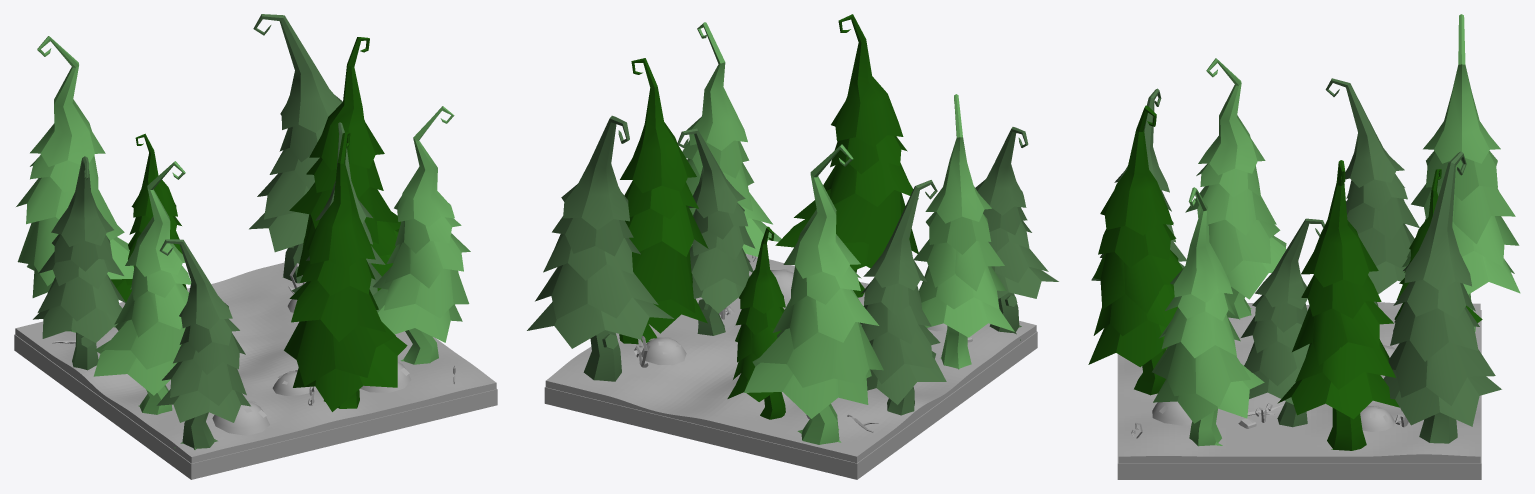
The model's file is Foret_croisee_wendigo.fbx.
3 views of the same model, side by side, from view 1: azimuth 30°, elevation 25°; view 2: azimuth 150°, elevation 25°; view 3: azimuth 270°, elevation 25° (orthographic). The views are drawn at different scales.
Visible parts, largest first — view 1: sol27, sapin23, sapin21, sapin24, sapin25, sapin18, sapin22, sapin16, sol10, sapin17, sapin19, Buisson34 (+2 smaller); view 2: sol27, sapin18, sapin16, sapin23, sapin17, sapin24, sapin25, sol10, sapin20, sapin22, sapin21, sapin19 (+1 smaller); view 3: sol27, sapin16, sapin17, sapin23, sapin21, sapin18, sapin24, sapin25, sapin20, sol10, sapin22, sapin19 (+2 smaller).
Part boxes in pixels (bbox=[...]): sol27: bbox=[15, 262, 496, 463]; sapin23: bbox=[284, 132, 407, 411]; sapin21: bbox=[372, 106, 470, 364]; sapin24: bbox=[93, 161, 191, 414]; sapin25: bbox=[33, 156, 125, 370]; sapin18: bbox=[16, 36, 133, 332]; sapin22: bbox=[156, 239, 250, 449]; sapin16: bbox=[249, 14, 342, 283]; sol10: bbox=[14, 334, 497, 479]; sapin17: bbox=[289, 37, 400, 290]; sapin19: bbox=[111, 133, 186, 301]; Buisson34: bbox=[212, 400, 269, 435]; sol27: bbox=[545, 254, 1036, 463]; sapin18: bbox=[744, 144, 883, 444]; sapin16: bbox=[527, 115, 673, 381]; sapin23: bbox=[775, 14, 918, 297]; sapin17: bbox=[619, 58, 708, 344]; sapin24: bbox=[913, 94, 1014, 369]; sapin25: bbox=[860, 180, 946, 415]; sol10: bbox=[544, 331, 1037, 479]; sapin20: bbox=[677, 128, 755, 335]; sapin22: bbox=[975, 127, 1058, 340]; sapin21: bbox=[682, 22, 781, 256]; sapin19: bbox=[727, 226, 785, 419]; sol27: bbox=[1118, 302, 1480, 463]; sapin16: bbox=[1383, 151, 1501, 443]; sapin17: bbox=[1277, 160, 1399, 450]; sapin23: bbox=[1088, 105, 1182, 395]; sapin21: bbox=[1152, 187, 1264, 446]; sapin18: bbox=[1402, 14, 1520, 331]; sapin24: bbox=[1185, 58, 1286, 319]; sapin25: bbox=[1325, 78, 1419, 306]; sapin20: bbox=[1241, 218, 1324, 427]; sol10: bbox=[1117, 310, 1481, 479]; sapin22: bbox=[1091, 88, 1186, 280]; sapin19: bbox=[1394, 169, 1482, 322].
Size of the model in its own units: 993 by 788 by 951.
